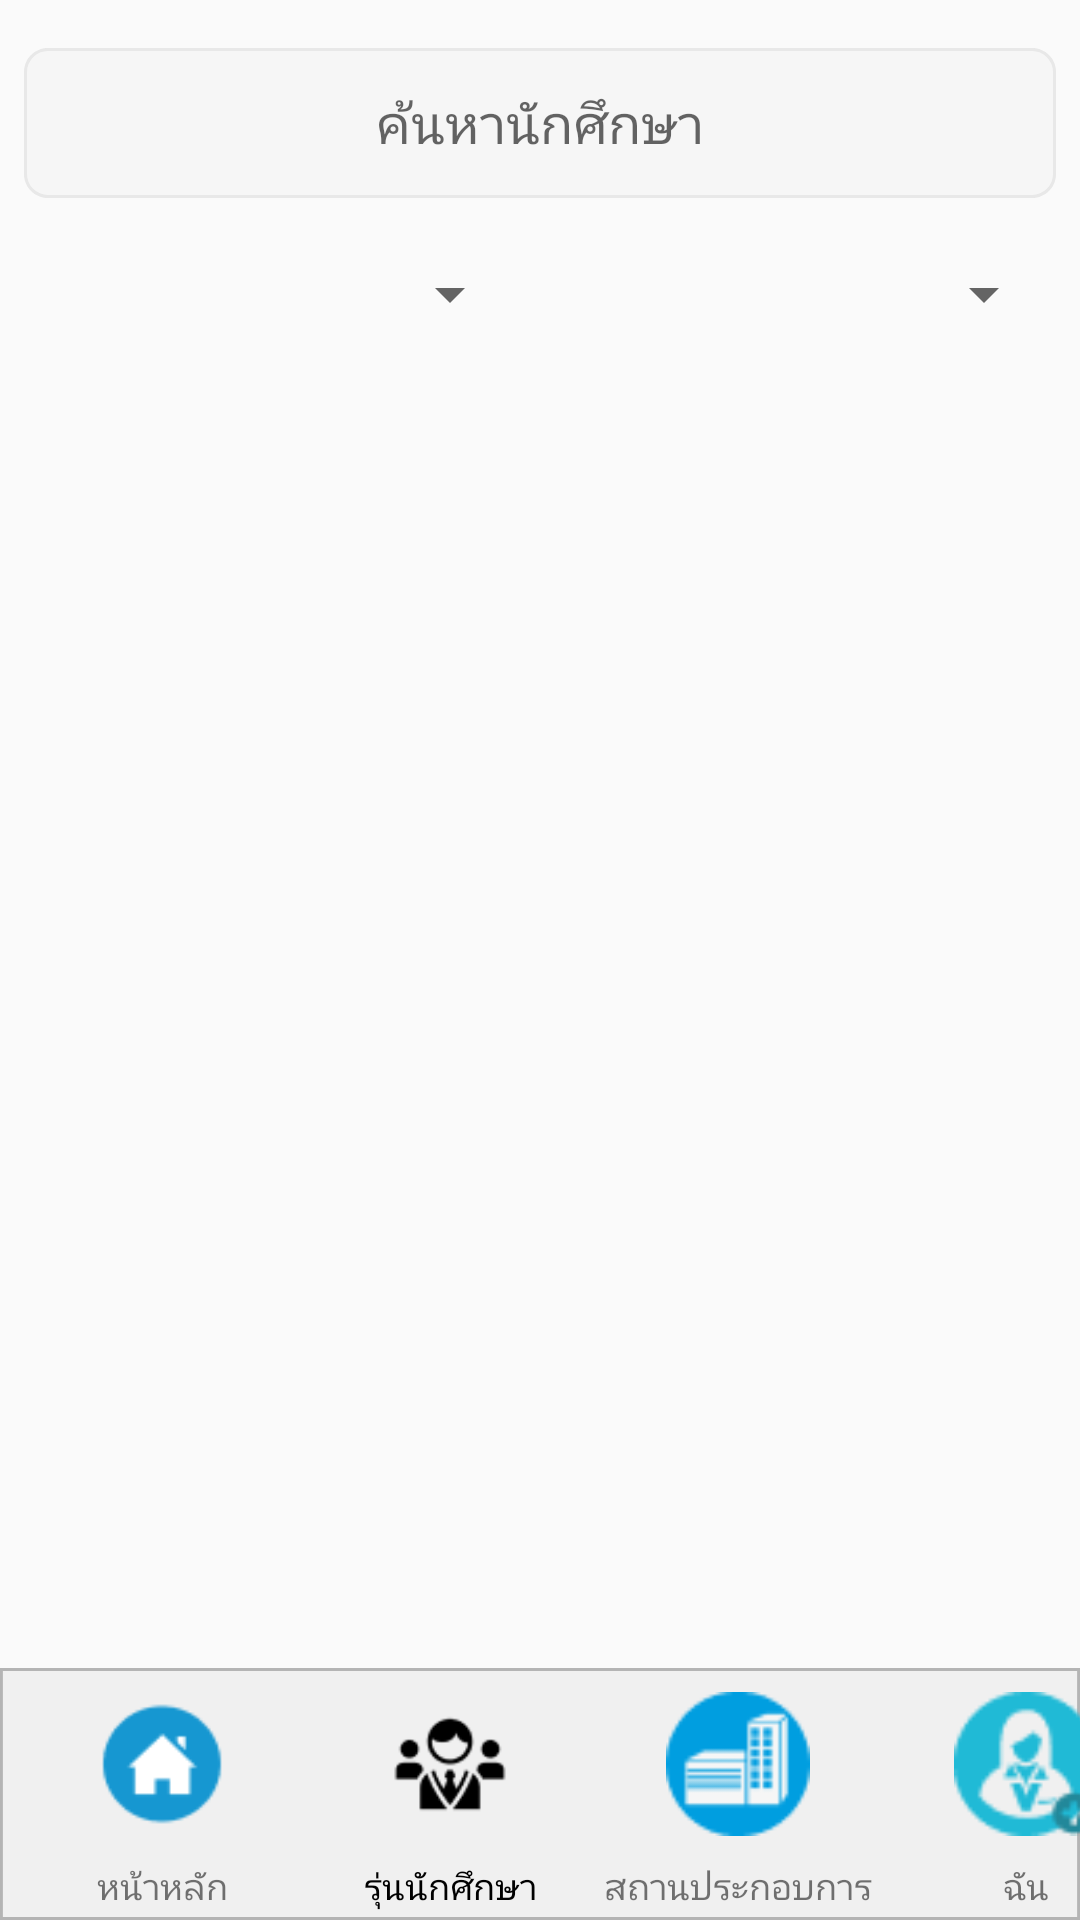

Icon bounding boxes for this 1080 × 1920 phone screenshot, format (x1, y1, x2, y2):
main: (102, 1704, 222, 1824)
